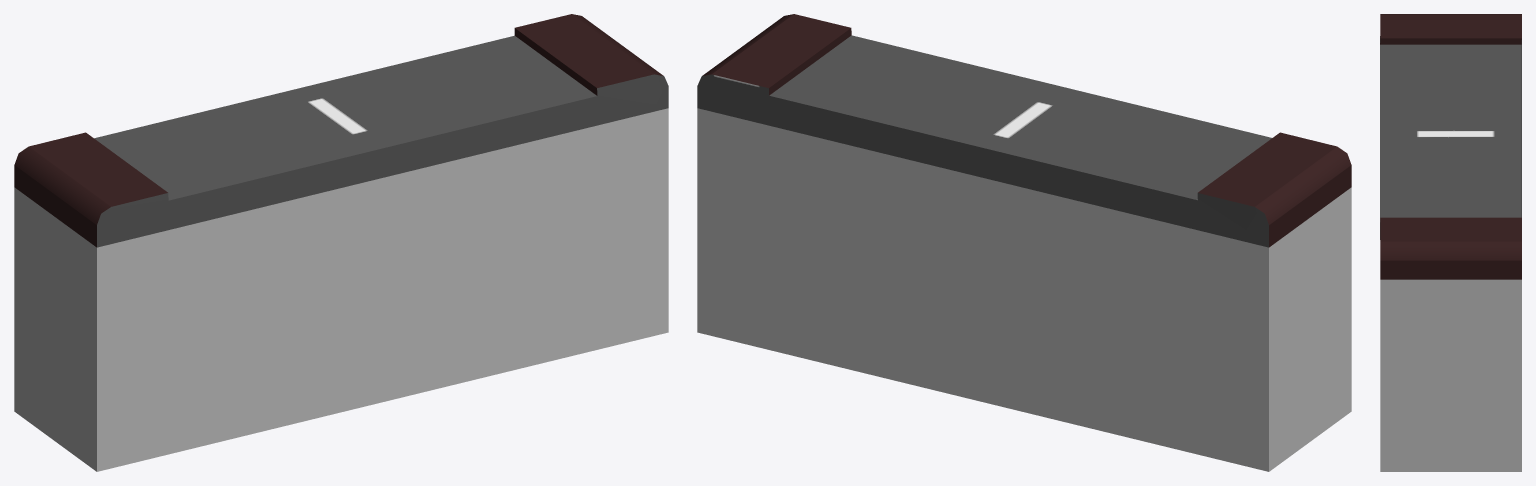
The model's file is Road small border.fbx.
3 views of the same model, side by side, from view 1: azimuth 30°, elevation 25°; view 2: azimuth 150°, elevation 25°; view 3: azimuth 270°, elevation 25° (orthographic). The views are drawn at different scales.
Visible parts, largest first — view 1: Road_small_01, Road_small_01_Cap; view 2: Road_small_01, Road_small_01_Cap; view 3: Road_small_01_Cap, Road_small_01.
Part boxes in pixels (x1,y1,x2,y2): Road_small_01: (14, 108, 668, 471); Road_small_01_Cap: (14, 14, 668, 247); Road_small_01: (697, 108, 1351, 471); Road_small_01_Cap: (697, 14, 1351, 247); Road_small_01_Cap: (1380, 14, 1521, 279); Road_small_01: (1380, 279, 1521, 471).
Size of the model in its own units: 800 by 350 by 201.
